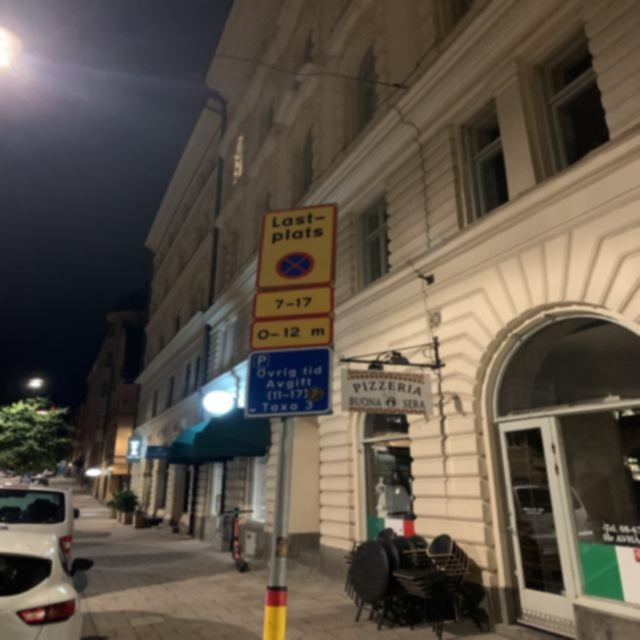lastplats: (256, 202, 340, 290)
